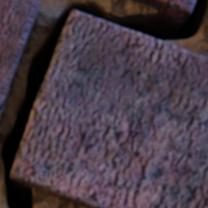brick: (10, 11, 207, 207), (0, 0, 38, 117), (129, 0, 195, 21)
crack: (1, 0, 207, 207)
